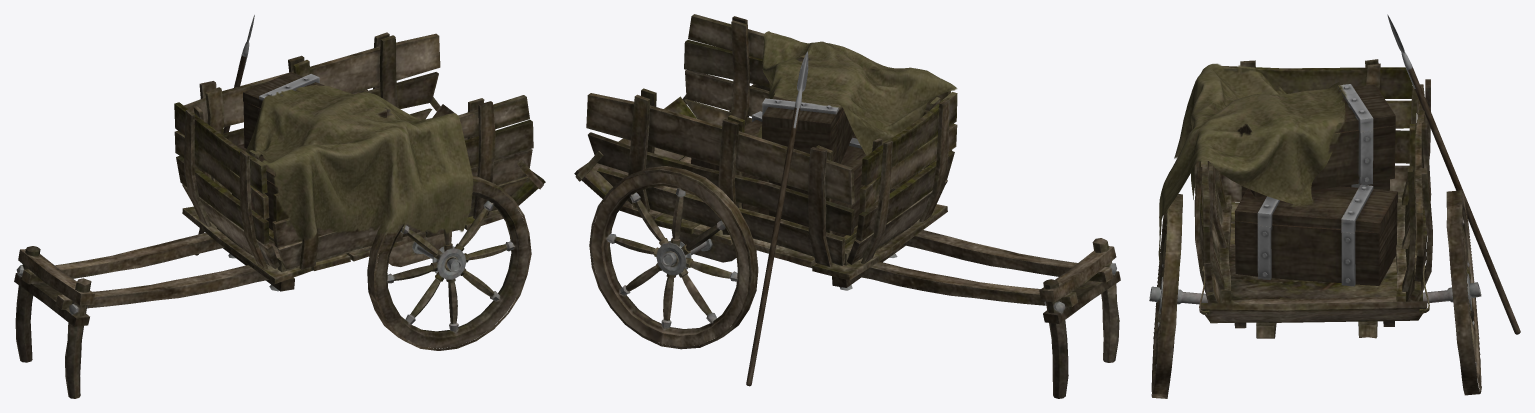
Rendered from medieval_wooden_cart_1_jab4.glb.
3 views of the same model, side by side, from view 1: azimuth 30°, elevation 25°; view 2: azimuth 150°, elevation 25°; view 3: azimuth 270°, elevation 25° (orthographic). The views are drawn at different scales.
Visible parts, largest first — view 1: defaultMaterial (×5); view 2: defaultMaterial (×5); view 3: defaultMaterial (×5).
Boxes of the visible parts, left/top/right/bottom form: defaultMaterial (×5): left=14, top=15, right=545, bottom=398; defaultMaterial (×5): left=574, top=14, right=1120, bottom=398; defaultMaterial (×5): left=1149, top=14, right=1520, bottom=398.
Bounding box in the file's own units: 2 × 1.19 × 1.25.
1 material, 1 textured.
